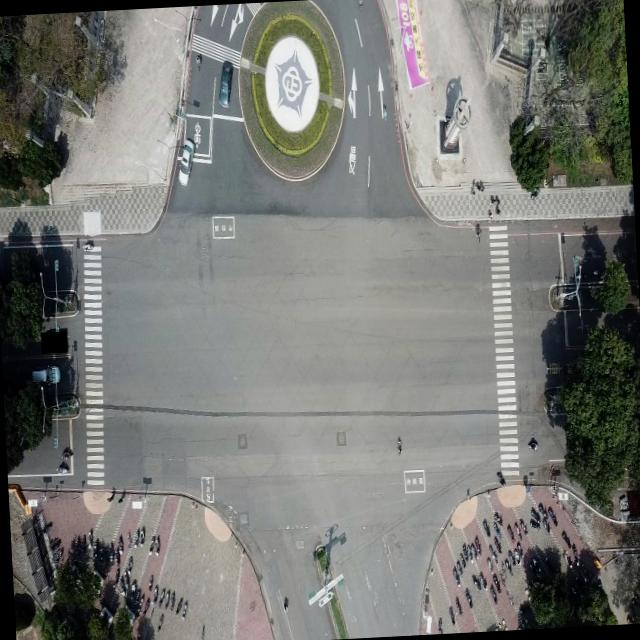bike: (55, 465, 73, 477), (82, 238, 94, 250), (196, 53, 202, 71), (382, 104, 387, 120)
car: (176, 135, 198, 186), (28, 362, 66, 390), (217, 59, 236, 108)
